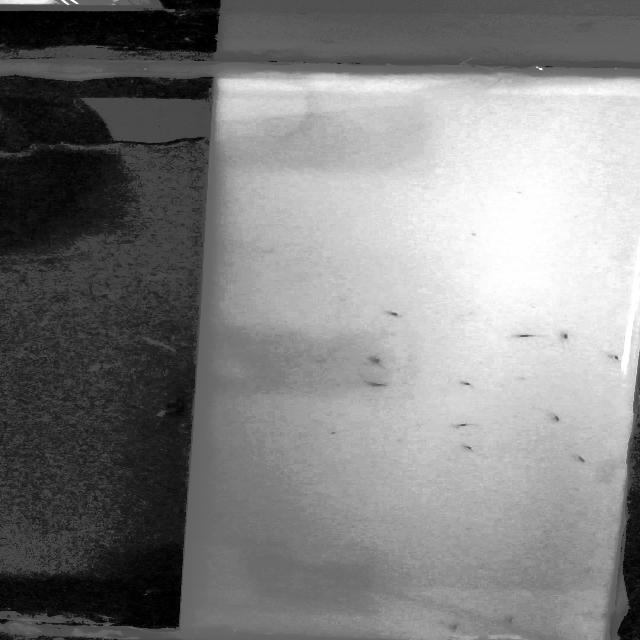shrimp: (504, 329, 544, 345), (452, 438, 484, 458), (544, 412, 580, 428), (439, 617, 472, 634), (442, 418, 479, 432), (571, 454, 608, 468), (366, 377, 392, 395), (602, 353, 631, 367), (452, 379, 482, 391), (557, 328, 577, 345), (363, 354, 384, 368), (381, 310, 411, 319)
